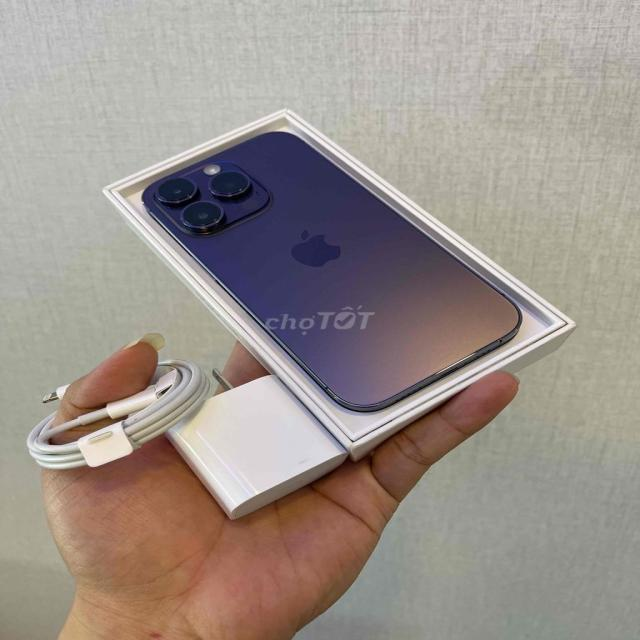gen_14: (140, 114, 532, 412)
